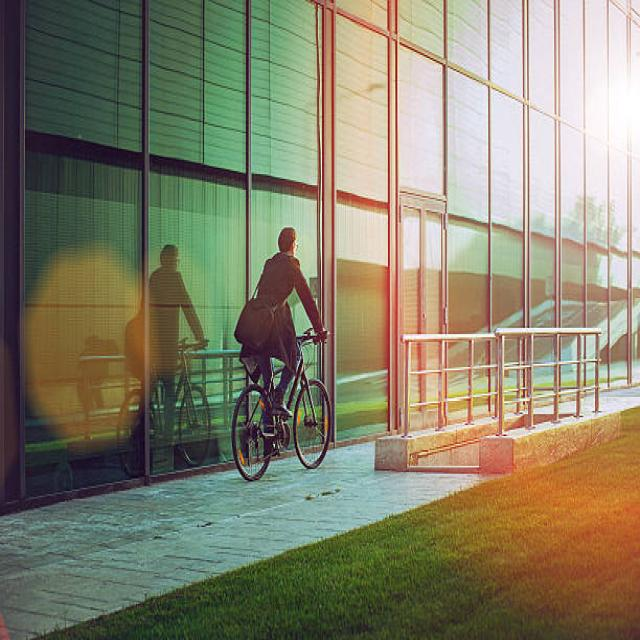bicycle: (232, 227, 332, 479)
